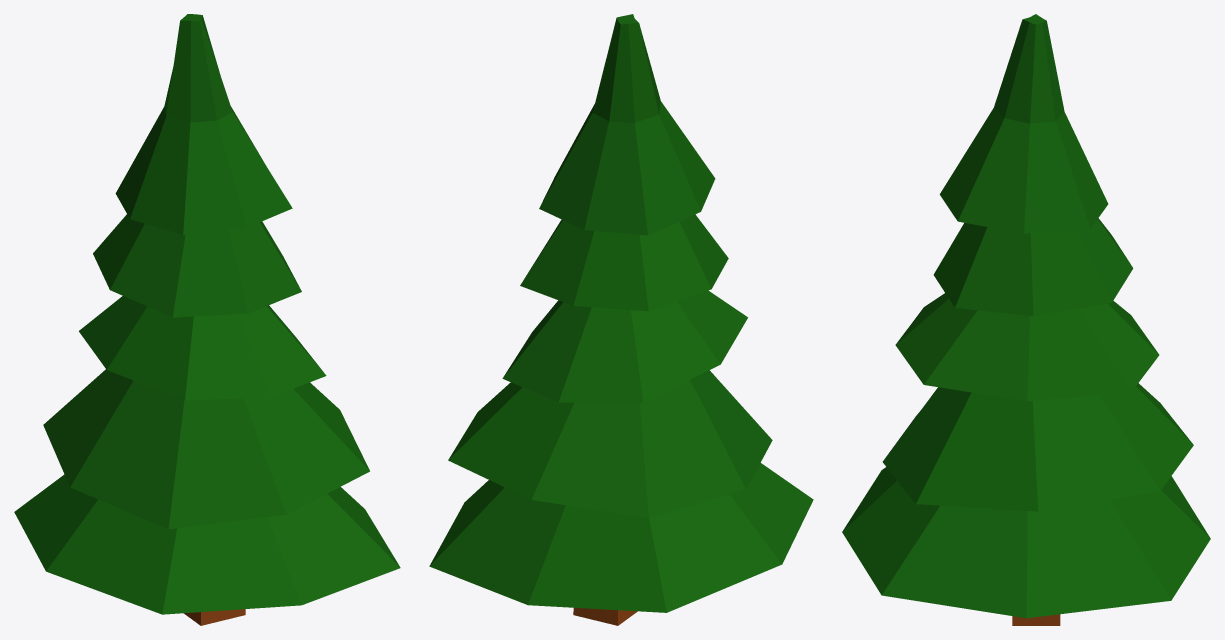
Rendered from tree-3.glb.
3 views of the same model, side by side, from view 1: azimuth 30°, elevation 25°; view 2: azimuth 150°, elevation 25°; view 3: azimuth 270°, elevation 25° (orthographic). The views are drawn at different scales.
Parts seen in each view (by area): view 1: 立方体.004, Cube.001; view 2: 立方体.004, Cube.001; view 3: 立方体.004.
Boxes of the visible parts, x1=… form: 立方体.004: x1=14, y1=14, x2=400, y2=614; Cube.001: x1=184, y1=609, x2=245, y2=625; 立方体.004: x1=429, y1=14, x2=813, y2=612; Cube.001: x1=573, y1=607, x2=637, y2=625; 立方体.004: x1=842, y1=14, x2=1210, y2=618.
Size of the model in its own units: 9.96 by 17.87 by 10.17.
